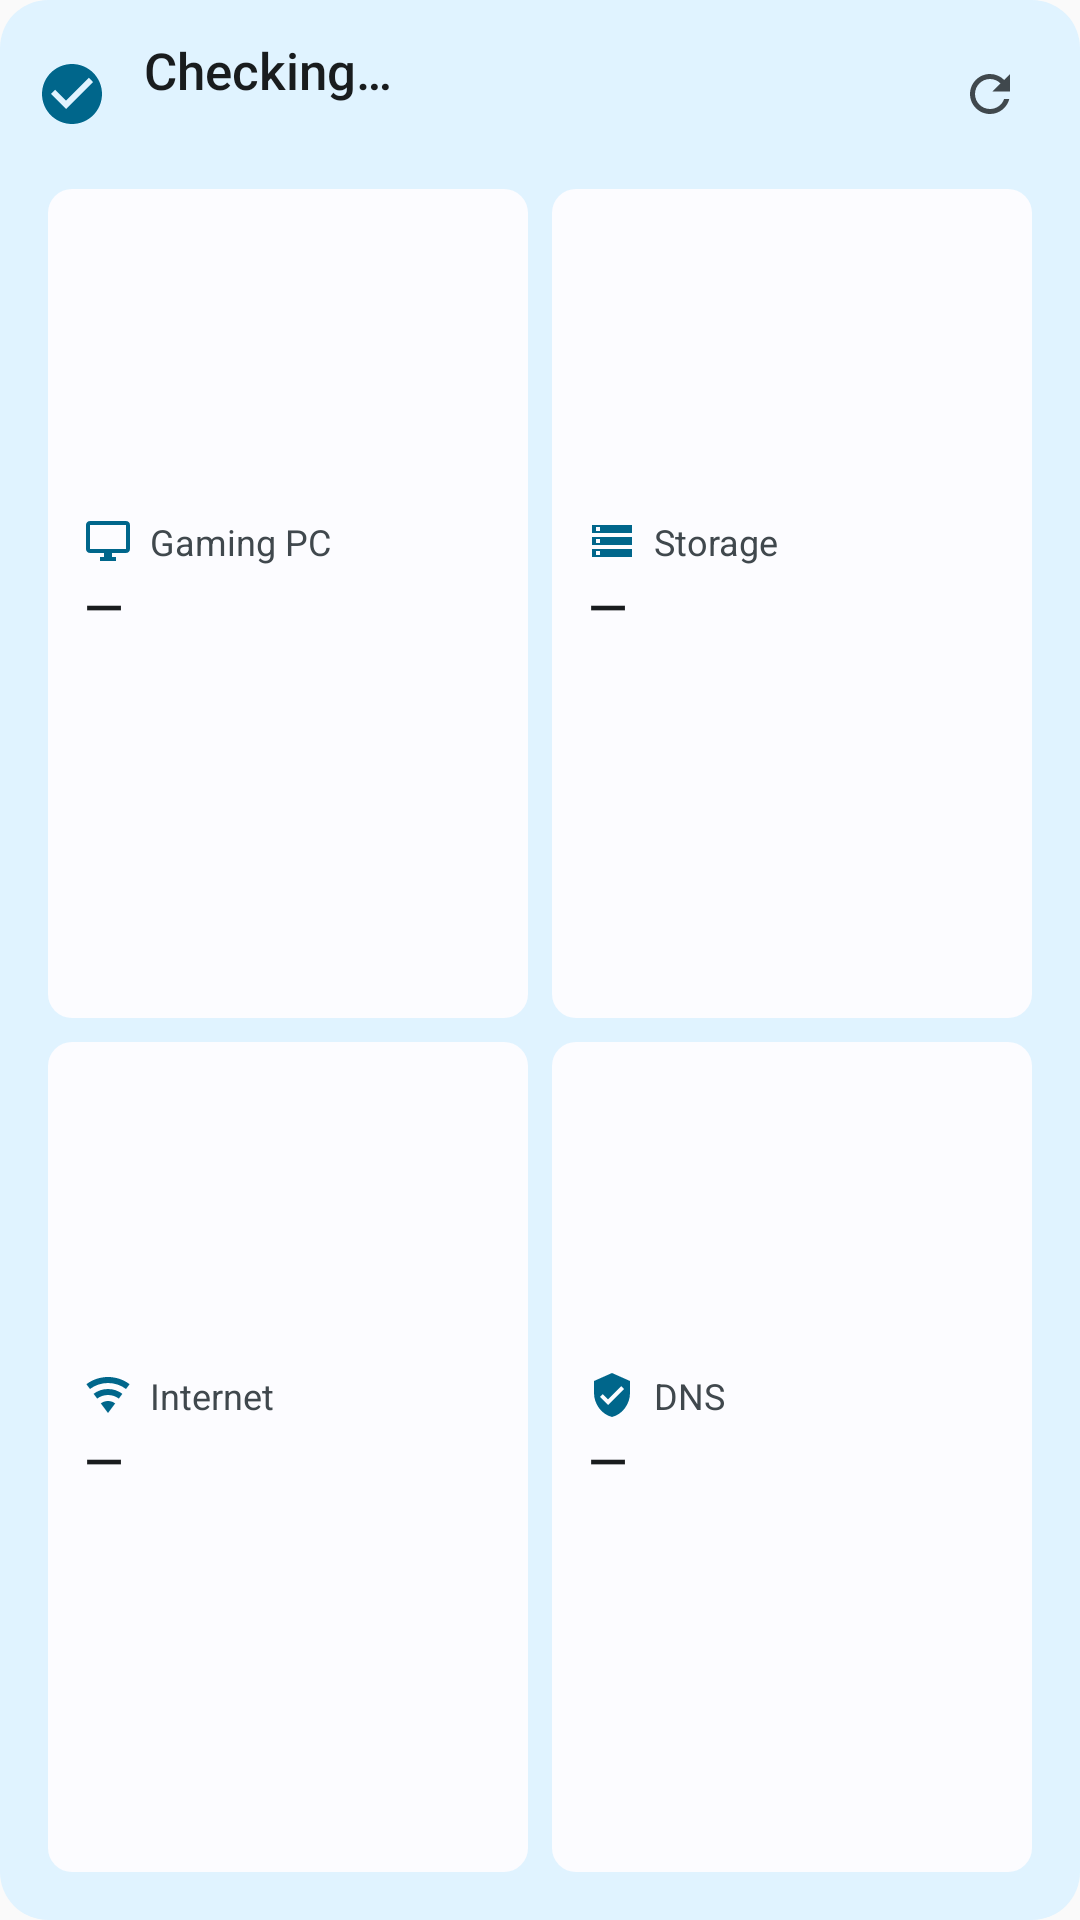

Icons on this 1080x1920 Android screen, each with the point to tap as [x,y]:
Refresh: [990,94]
widget network: [108,1395]
widget ok: [72,94]
widget pc: [108,541]
widget shield: [612,1395]
